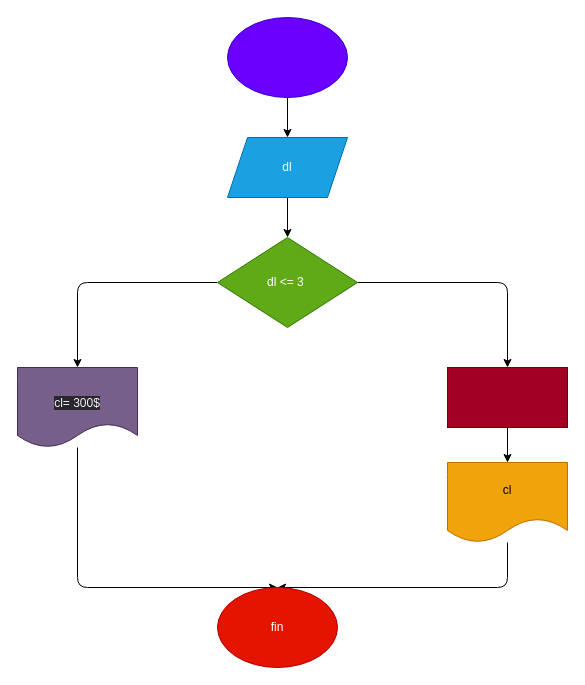
This 585x685 diagram has some shape labels left out. Each missing label, with the centre of its shape:
inicio: (287,57)
t = dl -3 p= (300+50*t): (507,397)
